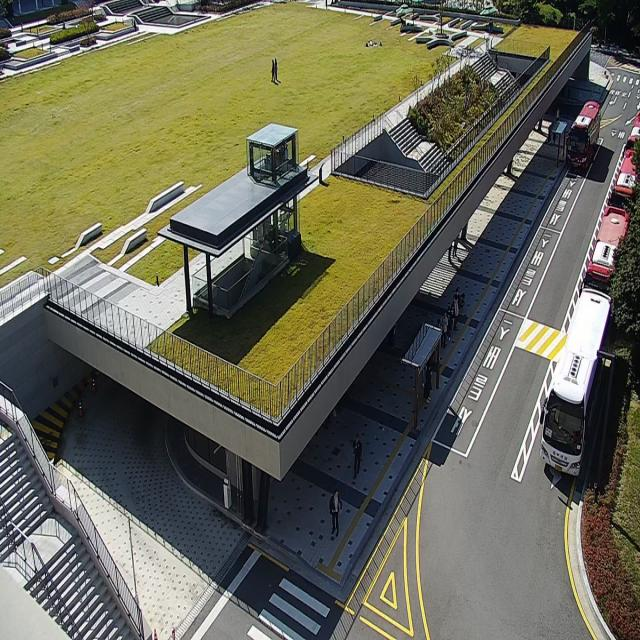queue: (416, 291, 461, 431)
